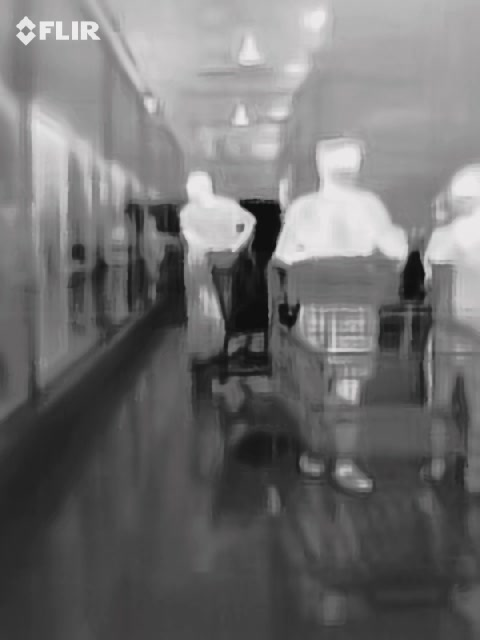head: (316, 137, 362, 194), (448, 163, 480, 214)
